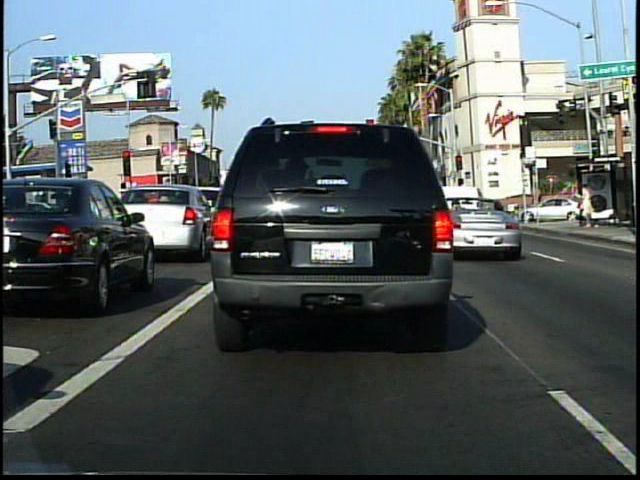person: (572, 178, 597, 231)
